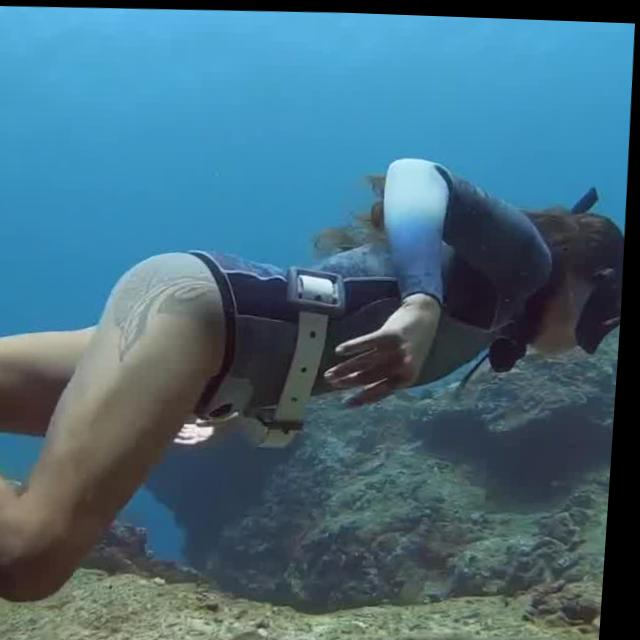human: (0, 144, 632, 636)
